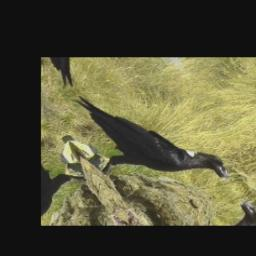Crow: (51, 68, 235, 212)
